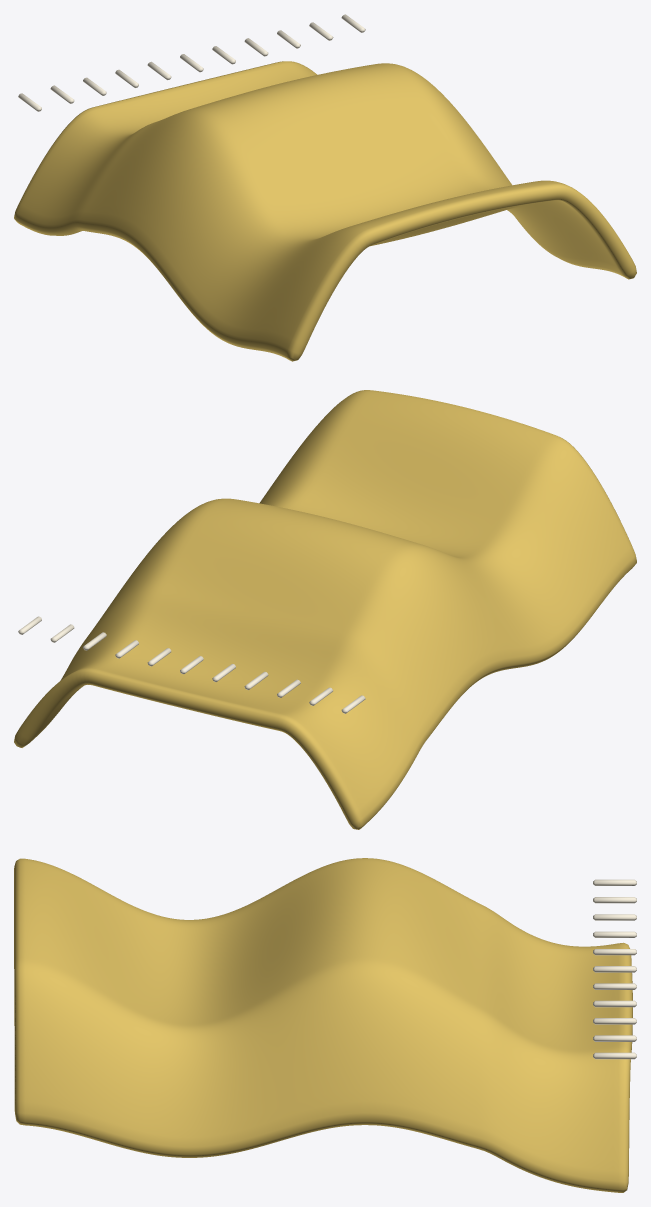
Rendered from sc_blanket.glb.
3 views of the same model, one above another, from view 1: azimuth 30°, elevation 25°; view 2: azimuth 150°, elevation 25°; view 3: azimuth 270°, elevation 25° (orthographic). The views are drawn at different scales.
Visible parts, largest first — view 1: Blanket; view 2: Blanket; view 3: Blanket.
Boxes of the visible parts, bbox=[...] form: Blanket: bbox=[14, 61, 636, 361]; Blanket: bbox=[14, 390, 636, 829]; Blanket: bbox=[14, 858, 632, 1192].
Size of the model in its own units: 0.1206 by 0.0598 by 0.1701.
